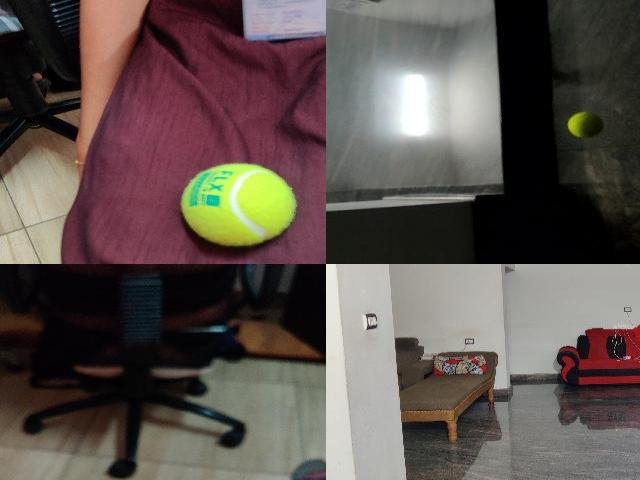tennis-ball: (181, 163, 295, 244), (566, 112, 604, 138)
